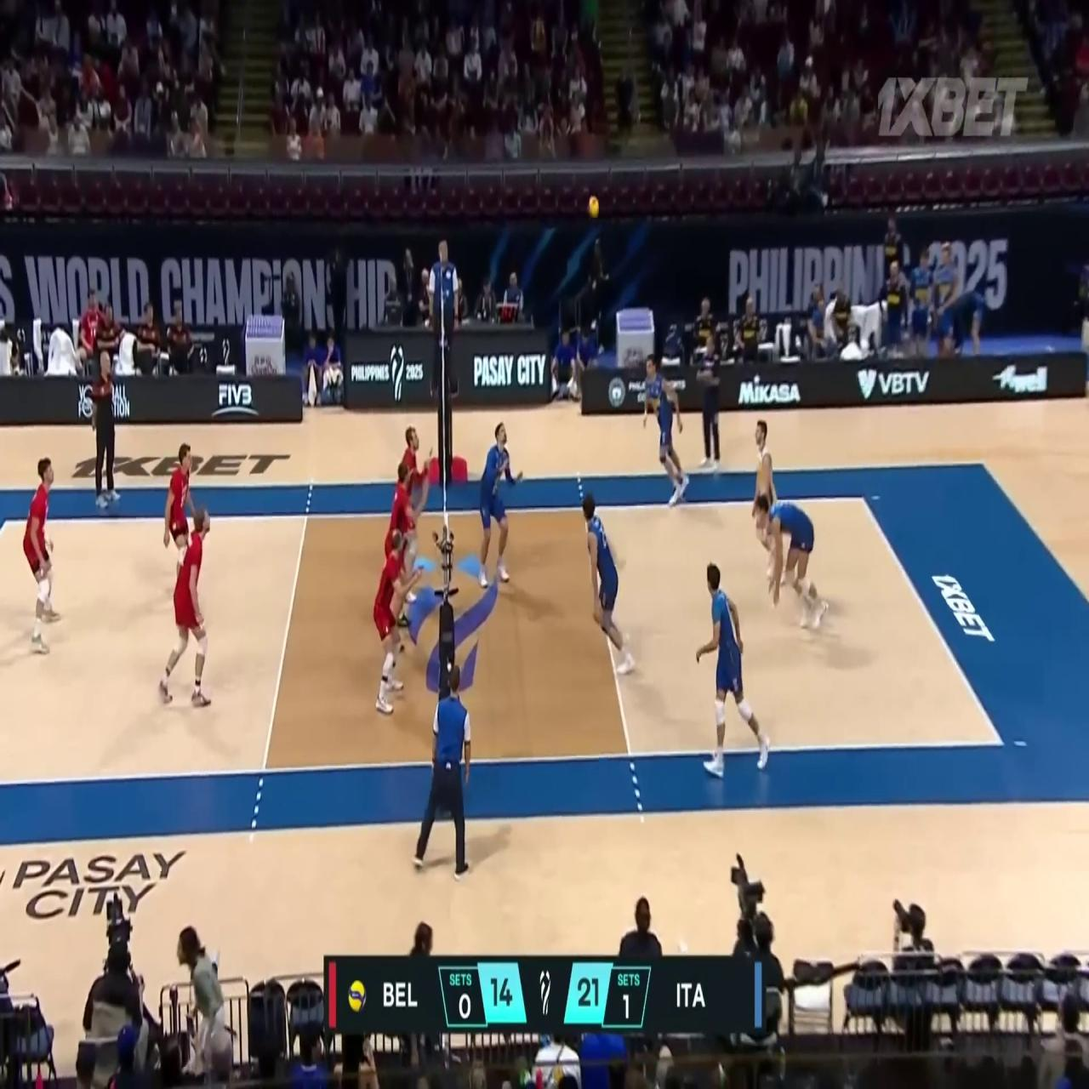ball: (587, 196, 599, 218)
